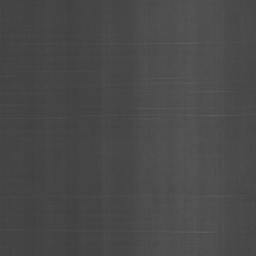Waist folding: (112, 106, 256, 118), (149, 229, 216, 235), (150, 76, 190, 86), (189, 194, 256, 199), (135, 41, 201, 46), (202, 89, 256, 94), (0, 228, 71, 230), (0, 74, 7, 79)
